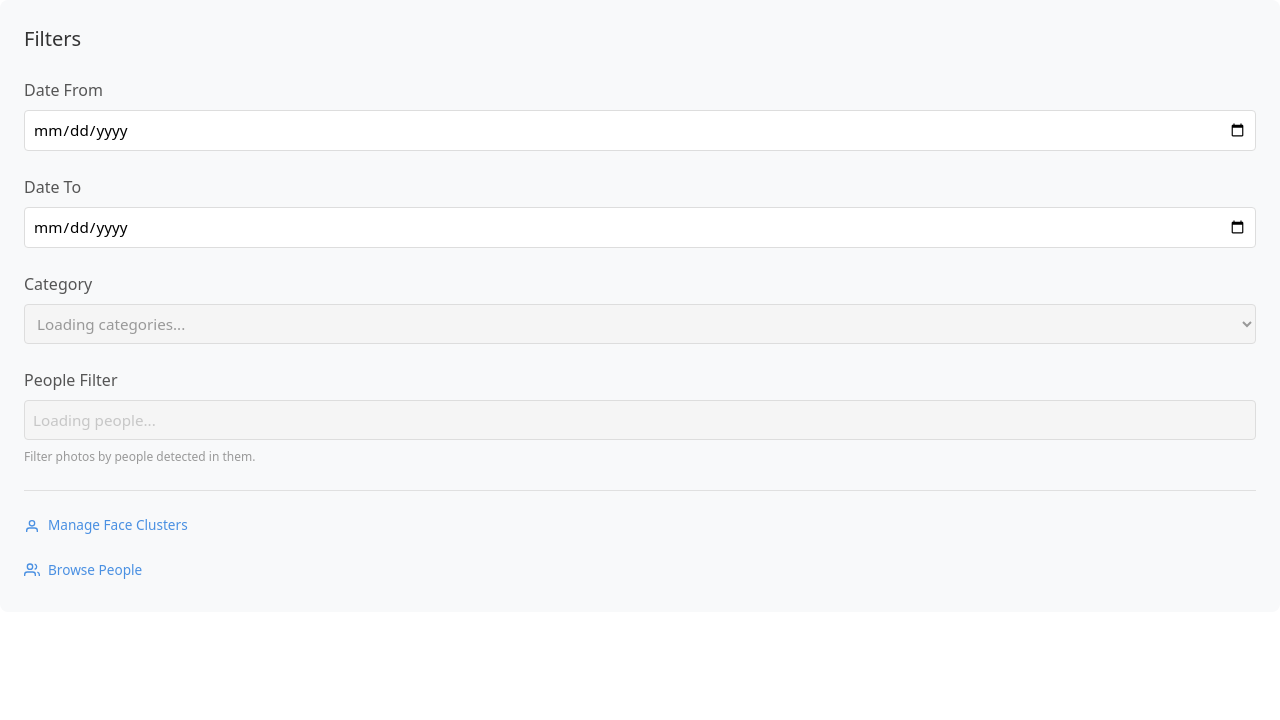
it: FiltersPanel › shows clear all button when filters are active
Check: the button "clear all" is not shown
In the date field labelled "Date From": (640, 130) [24,110,1256,151], type "2024-01-01"
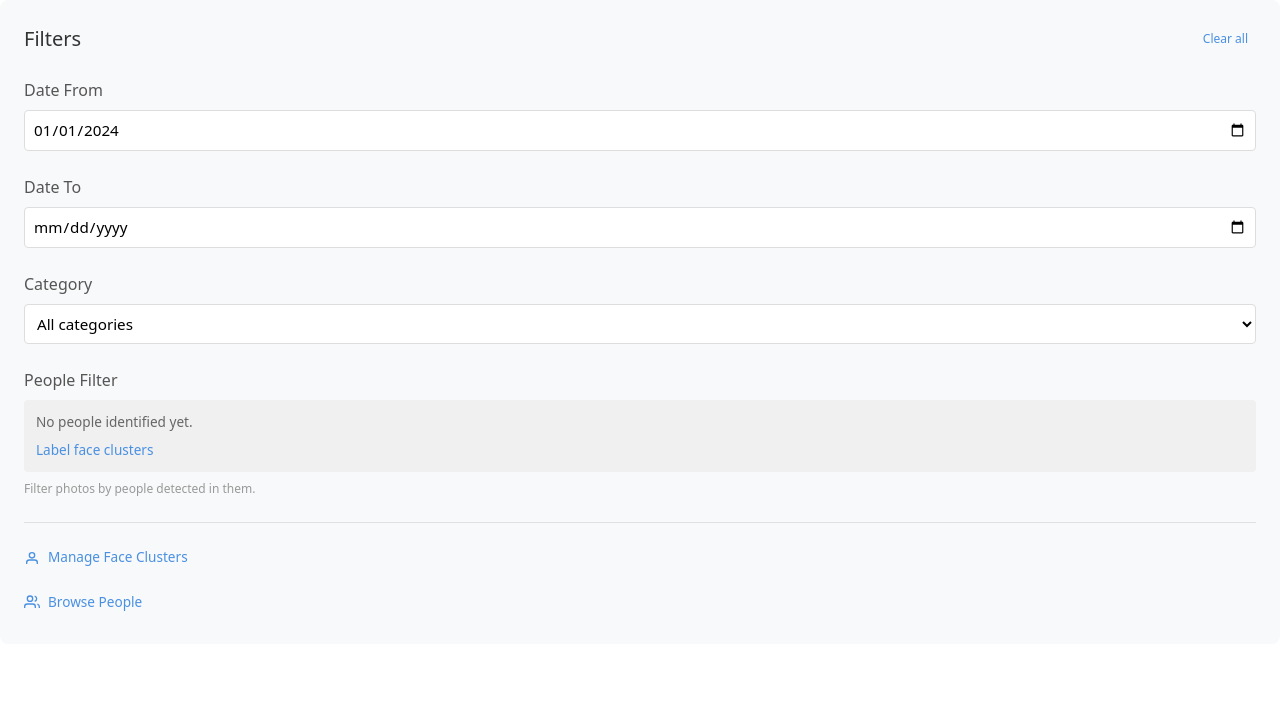
Check: the button "Clear all" is shown, box [1195,26,1256,52]
